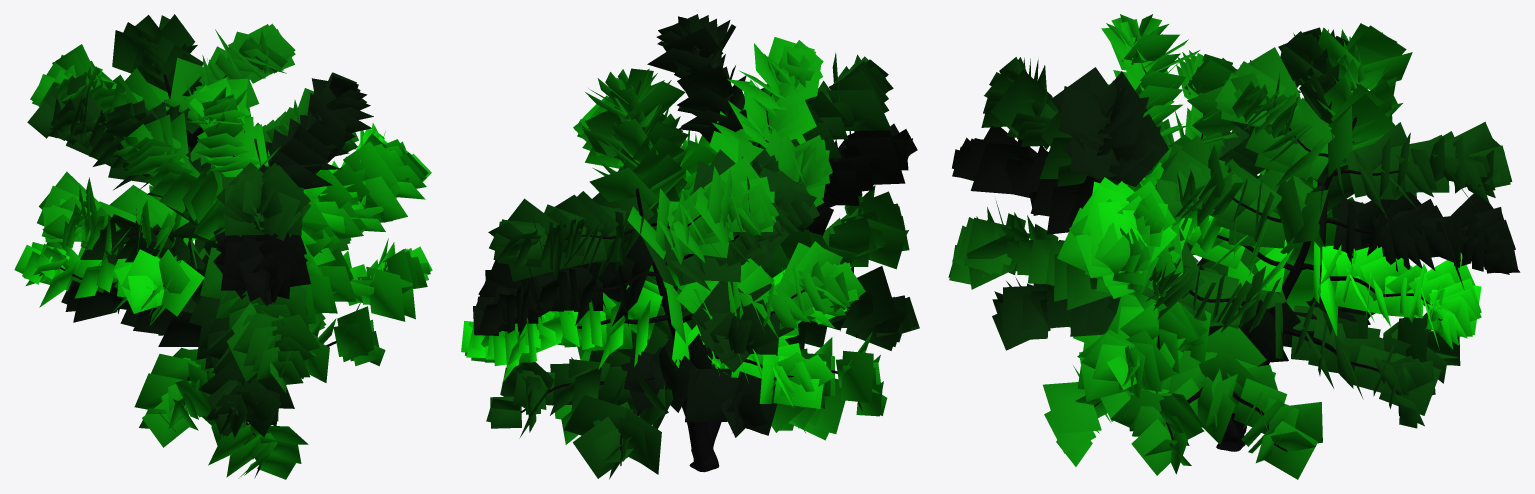
The model's file is Maple_11.fbx.
The picture shows the model from 3 angles, left to right: view 1: azimuth 30°, elevation 25°; view 2: azimuth 150°, elevation 25°; view 3: azimuth 270°, elevation 25°; orthographic projection. The views are drawn at different scales.
Visible parts, largest first — view 1: Maple_11; view 2: Maple_11; view 3: Maple_11.
Boxes of the visible parts, <box> form: Maple_11: <box>14,14,432,479</box>; Maple_11: <box>461,14,919,479</box>; Maple_11: <box>948,14,1520,479</box>.
Bounding box in the file's own units: 379 × 425 × 512.
